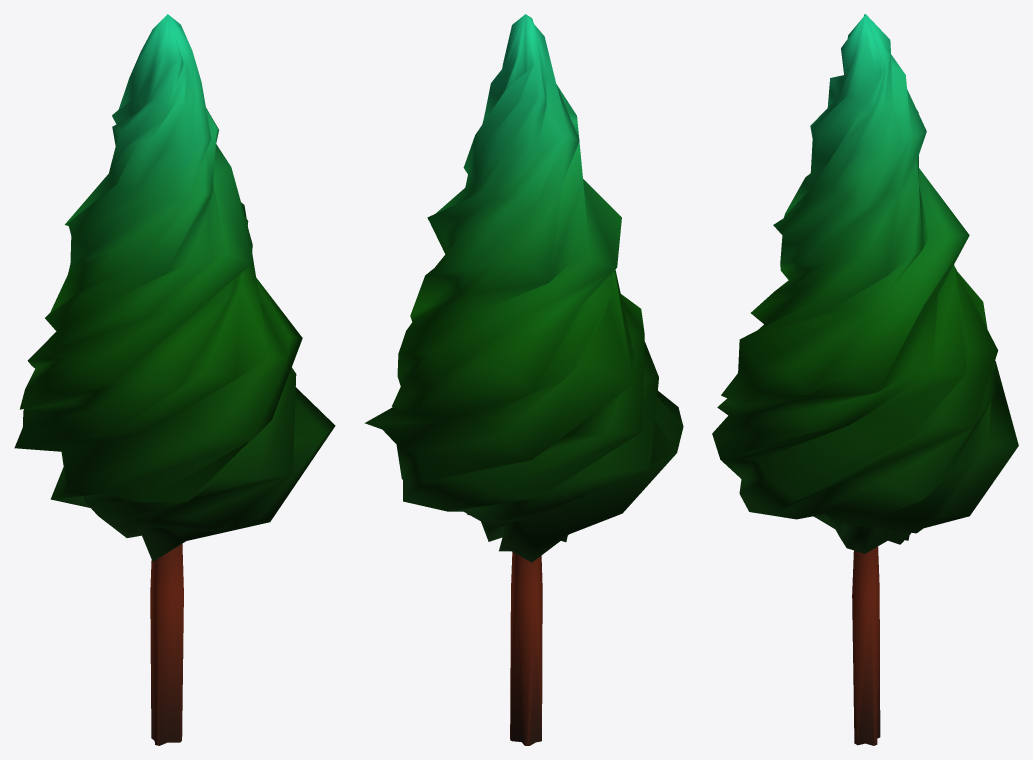
File: Pine_Tree_1A.fbx
The picture shows the model from 3 angles, left to right: view 1: azimuth 30°, elevation 25°; view 2: azimuth 150°, elevation 25°; view 3: azimuth 270°, elevation 25°; orthographic projection.
Visible parts, largest first — view 1: Pine_Tree_1A; view 2: Pine_Tree_1A; view 3: Pine_Tree_1A.
Part boxes in pixels (x1,y1,x2,y2): Pine_Tree_1A: (14, 14, 335, 745); Pine_Tree_1A: (364, 14, 683, 745); Pine_Tree_1A: (712, 14, 1018, 745).
Size of the model in its own units: 316 by 802 by 307.
